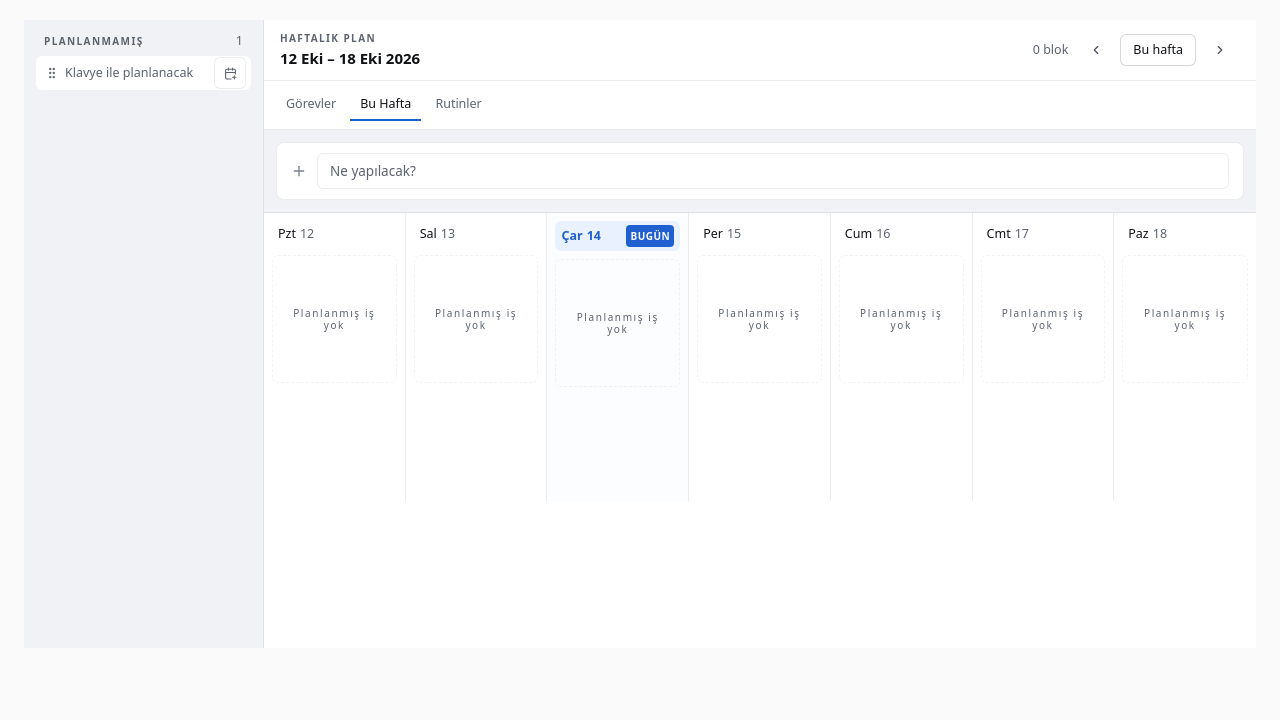
Test: WeeklyPlannerPage › planlanan gorev 'Planlanmamış' listesinden ANINDA duser
Click the button named "Klavye ile planlanacak görevini planlamak için seç".
click(230, 73)  # box x1=214 y1=57 x2=246 y2=89
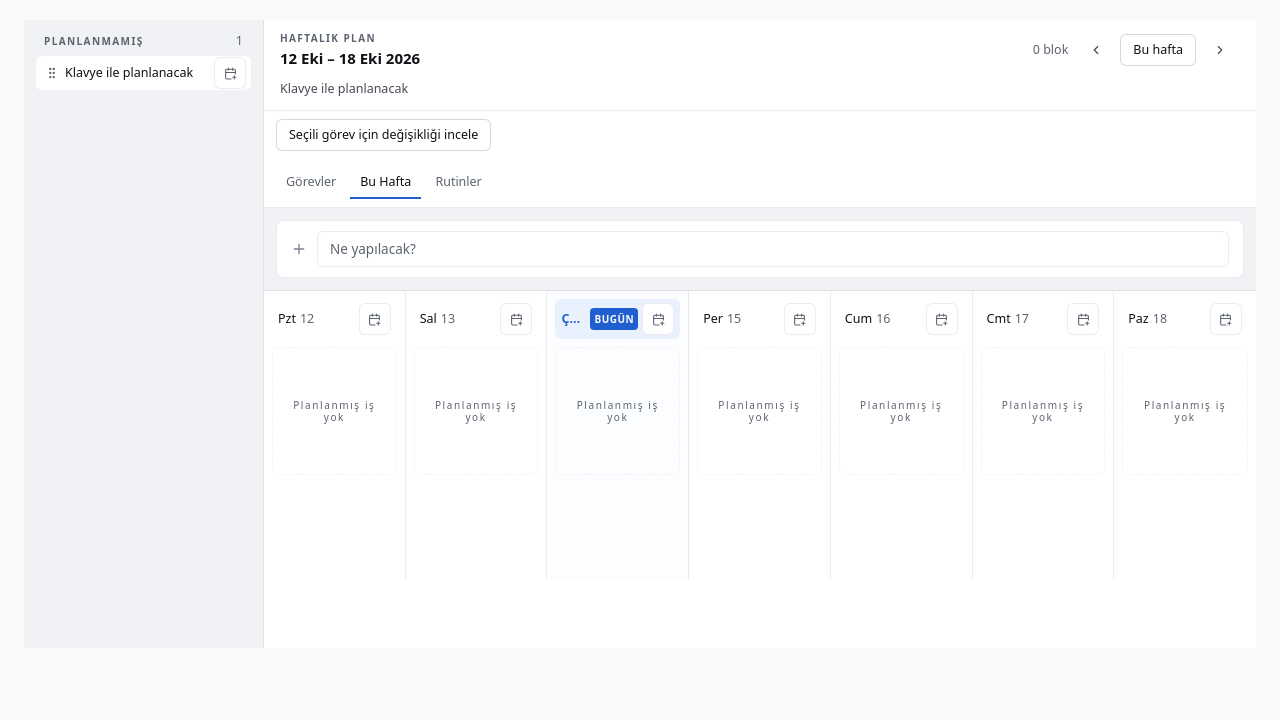
Click the button named "Seçili görevi 2026-10-12 gününe planla".
click(375, 319)  # box x1=359 y1=303 x2=391 y2=335
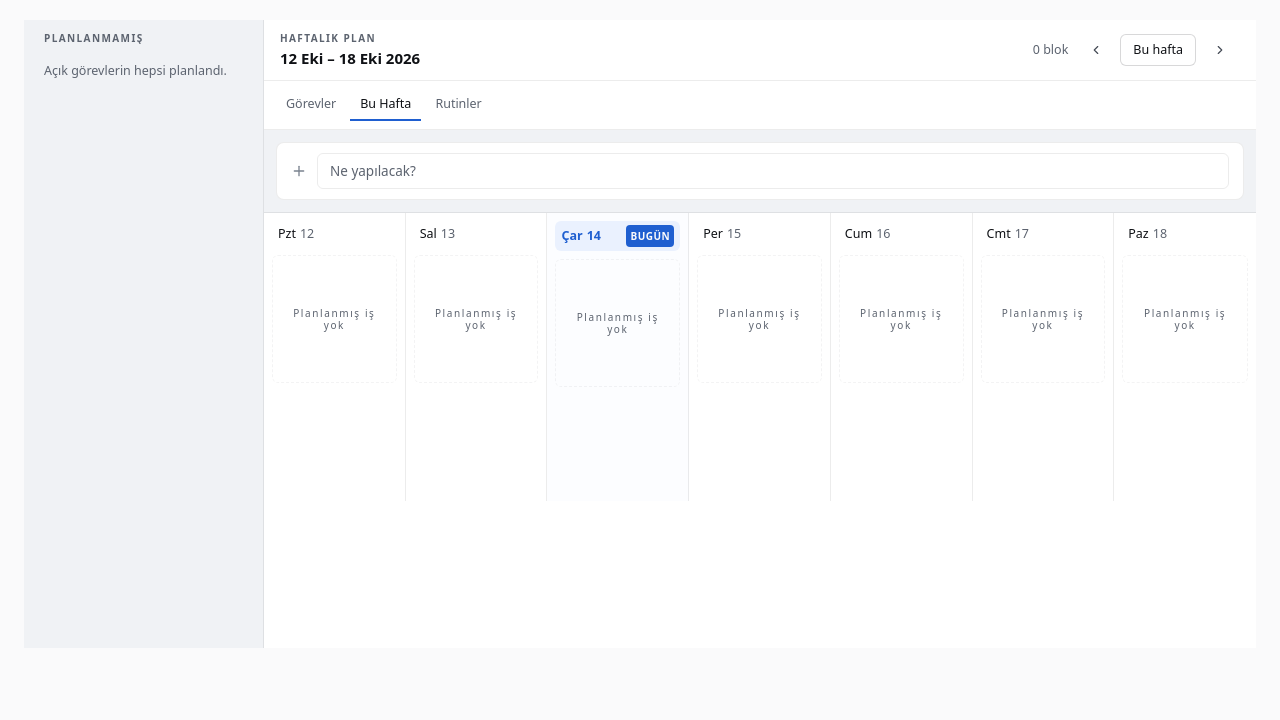
expect the text "Açık görevlerin hepsi planlandı." is shown: met, box x1=44 y1=62 x2=227 y2=79
